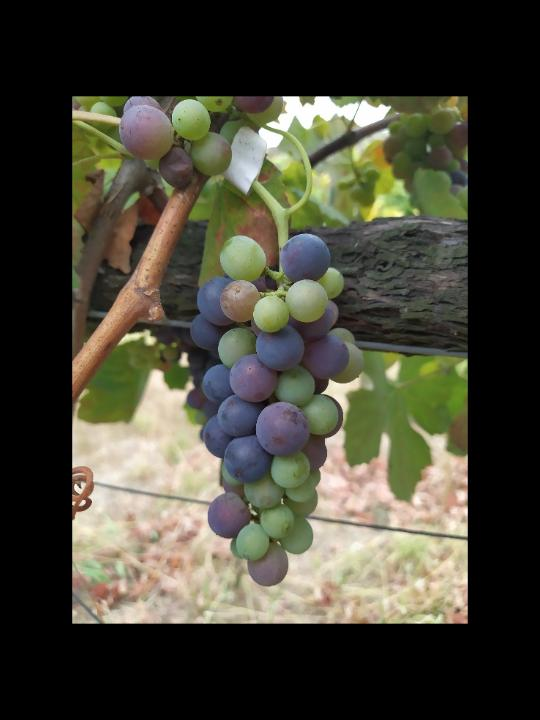grape: (189, 232, 367, 588)
